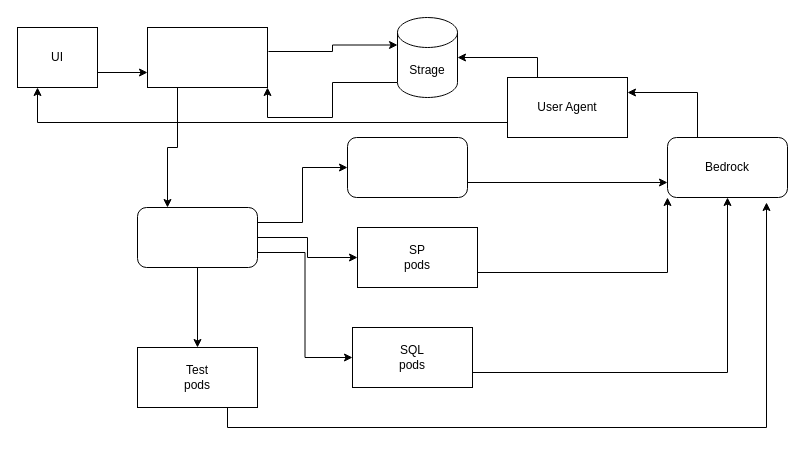
Some shapes in this 805 by 453 pixel diagram are drawn without their labels. Here are the shapes that lost their labels. From the top down, the centre of each, then its label:
(207,57): API
(407,167): DDL pods
(197,237): Manager_agent K8S node
